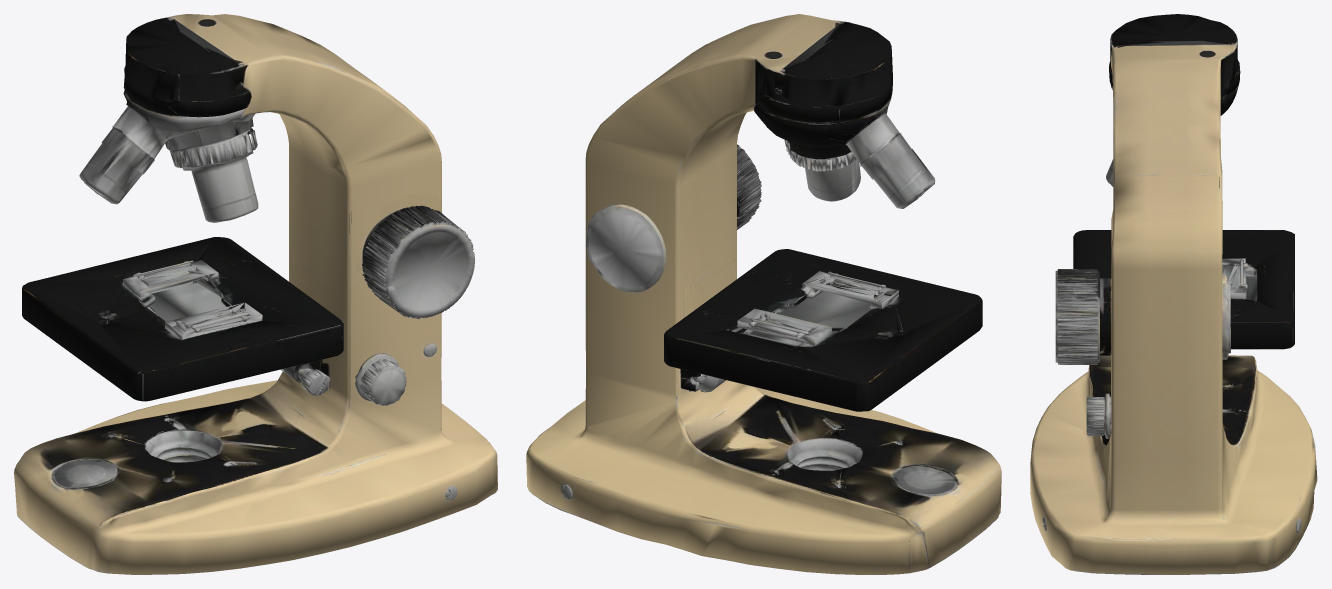
Rendered from microscope.glb.
3 renders of one model, left to right at view 1: azimuth 30°, elevation 25°; view 2: azimuth 150°, elevation 25°; view 3: azimuth 270°, elevation 25°, orthographic. The views are drawn at different scales.
Bounding box in the file's own units: 0.8643 × 0.9526 × 0.5879.
Materials: 1 (1 with a texture image).
